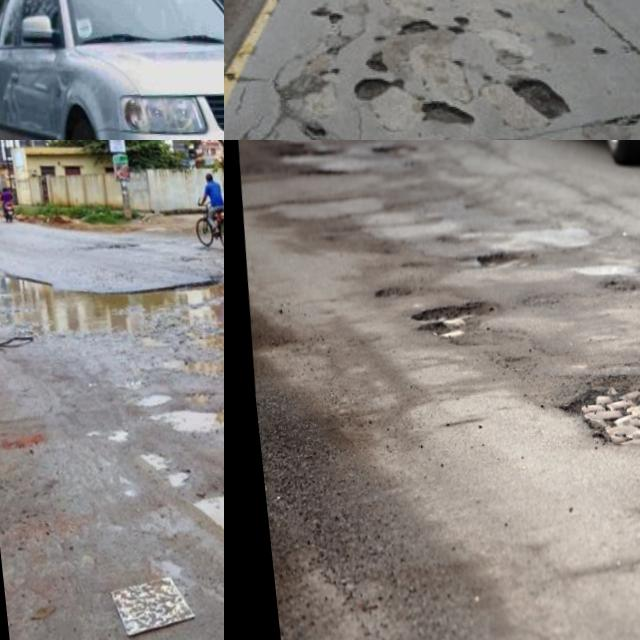Potholes: (0, 250, 224, 382), (350, 240, 535, 384), (120, 282, 224, 472), (554, 348, 640, 486), (299, 140, 432, 209), (164, 466, 224, 572), (581, 249, 640, 335)
